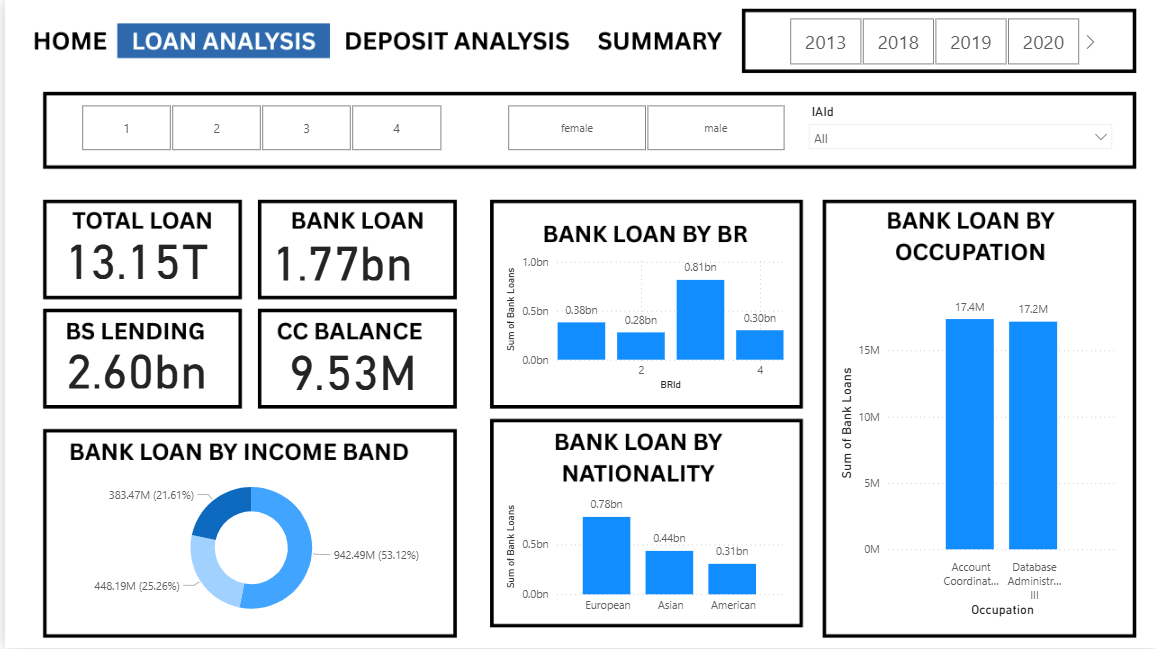

The page's visual inventory and layout, read from the dashboard file:
{"tool":"powerbi","page":{"name":"LOAN ANALYSIS","canvas":[1280,720],"ordinal":1},"visuals":[{"type":"slicer","fields":{"Values":["banking_case customer.Year of joining"]},"box":[846.2,12.7,370.6,65.2],"z":0},{"type":"actionButton","box":[25,25,100,40],"z":1000},{"type":"actionButton","box":[375,25,265,40],"z":2000},{"type":"actionButton","box":[640,25,171.7,40],"z":3000},{"type":"card","fields":{"Values":["Sum(banking_case customer.Total loan)"]},"box":[60,253.3,171.7,61.7],"z":4000},{"type":"card","fields":{"Values":["Sum(banking_case customer.Bank Loans)"]},"box":[288.3,255,171.7,61.7],"z":5000},{"type":"card","fields":{"Values":["Sum(banking_case customer.Business Lending)"]},"box":[60,375,171.7,61.7],"z":6000},{"type":"card","fields":{"Values":["Sum(banking_case customer.Credit Card Balance)"]},"box":[300,376.7,171.7,61.7],"z":7000},{"type":"donutChart","fields":{"Category":["banking_case customer.Income Band"],"Y":["Sum(banking_case customer.Bank Loans)"]},"box":[60,516.7,426.7,183.3],"z":8000},{"type":"clusteredColumnChart","fields":{"Category":["banking_case customer.BRId"],"Y":["Sum(banking_case customer.Bank Loans)"]},"box":[551.7,273.3,318.3,165],"z":9000},{"type":"clusteredColumnChart","fields":{"Category":["banking_case customer.Nationality"],"Y":["Sum(banking_case customer.Bank Loans)"]},"box":[551.7,540,318.3,150],"z":10000},{"type":"clusteredColumnChart","fields":{"Category":["banking_case customer.Occupation"],"Y":["Sum(banking_case customer.Bank Loans)"]},"box":[921.7,315,318.3,375],"z":11000},{"type":"slicer","fields":{"Values":["banking_case customer.BRId"]},"box":[60,110,448.3,63.3],"z":12000},{"type":"slicer","fields":{"Values":["banking_case customer.GenderId"]},"box":[533.3,110,356.7,63.3],"z":13000},{"type":"slicer","fields":{"Values":["banking_case customer.IAId"]},"box":[883.3,110,356.7,63.3],"z":14000}]}

Visuals, with their boxes in screenshot pixels (x1, y1, x2, y2), scaled from the page's 1280x720 canvas onto the 1156x649 screenshot:
slicer - banking_case customer.Year of joining: <bbox>764, 11, 1099, 70</bbox>
actionButton: <bbox>23, 23, 113, 59</bbox>
actionButton: <bbox>339, 23, 578, 59</bbox>
actionButton: <bbox>578, 23, 733, 59</bbox>
card - Sum(banking_case customer.Total loan): <bbox>54, 228, 209, 284</bbox>
card - Sum(banking_case customer.Bank Loans): <bbox>260, 230, 415, 285</bbox>
card - Sum(banking_case customer.Business Lending): <bbox>54, 338, 209, 394</bbox>
card - Sum(banking_case customer.Credit Card Balance): <bbox>271, 340, 426, 395</bbox>
donutChart - banking_case customer.Income Band x Sum(banking_case customer.Bank Loans): <bbox>54, 466, 440, 631</bbox>
clusteredColumnChart - banking_case customer.BRId x Sum(banking_case customer.Bank Loans): <bbox>498, 246, 786, 395</bbox>
clusteredColumnChart - banking_case customer.Nationality x Sum(banking_case customer.Bank Loans): <bbox>498, 487, 786, 622</bbox>
clusteredColumnChart - banking_case customer.Occupation x Sum(banking_case customer.Bank Loans): <bbox>832, 284, 1120, 622</bbox>
slicer - banking_case customer.BRId: <bbox>54, 99, 459, 156</bbox>
slicer - banking_case customer.GenderId: <bbox>482, 99, 804, 156</bbox>
slicer - banking_case customer.IAId: <bbox>798, 99, 1120, 156</bbox>
